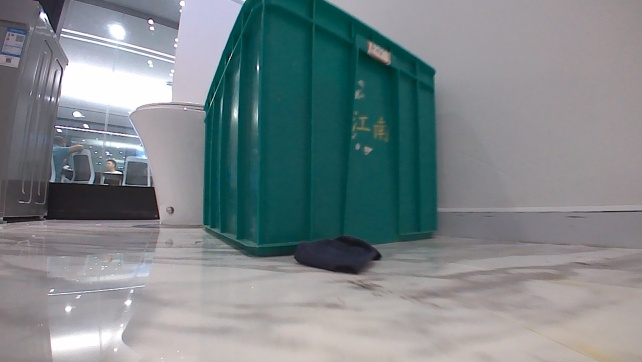socks: (288, 233, 385, 283)
toilet: (119, 97, 207, 226)
